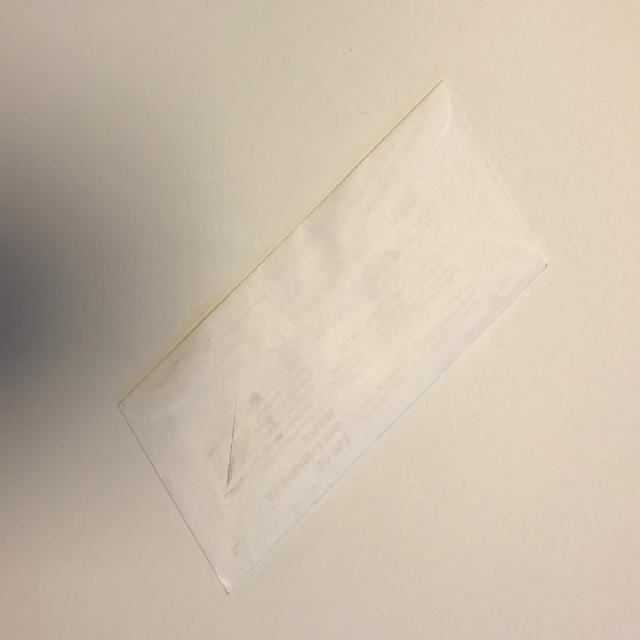paper: (116, 80, 548, 602)
